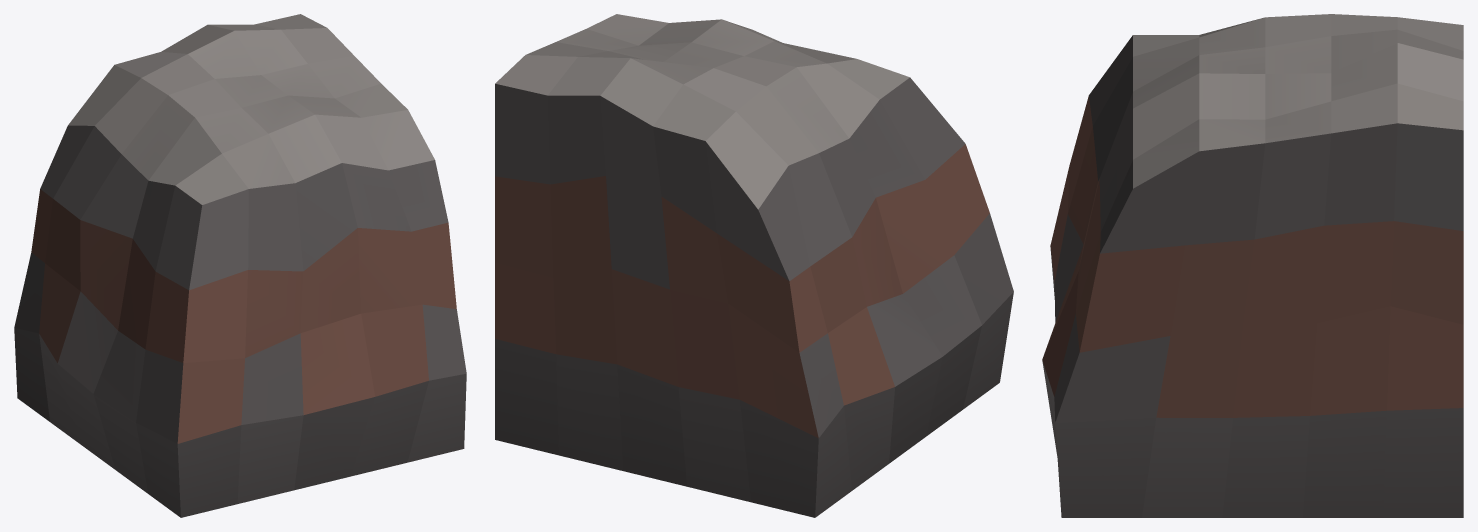
File: roca_esquina.glb
3 views of the same model, side by side, from view 1: azimuth 30°, elevation 25°; view 2: azimuth 150°, elevation 25°; view 3: azimuth 270°, elevation 25° (orthographic). The views are drawn at different scales.
Parts seen in each view (by area): view 1: propforge-cuartos-roca_esquina; view 2: propforge-cuartos-roca_esquina; view 3: propforge-cuartos-roca_esquina.
Boxes of the visible parts, left/top/right/bottom form: propforge-cuartos-roca_esquina: left=14, top=14, right=466, bottom=517; propforge-cuartos-roca_esquina: left=495, top=14, right=1013, bottom=517; propforge-cuartos-roca_esquina: left=1042, top=14, right=1463, bottom=517.
Bounding box in the file's own units: 0.9588 × 1.03 × 0.9432.
